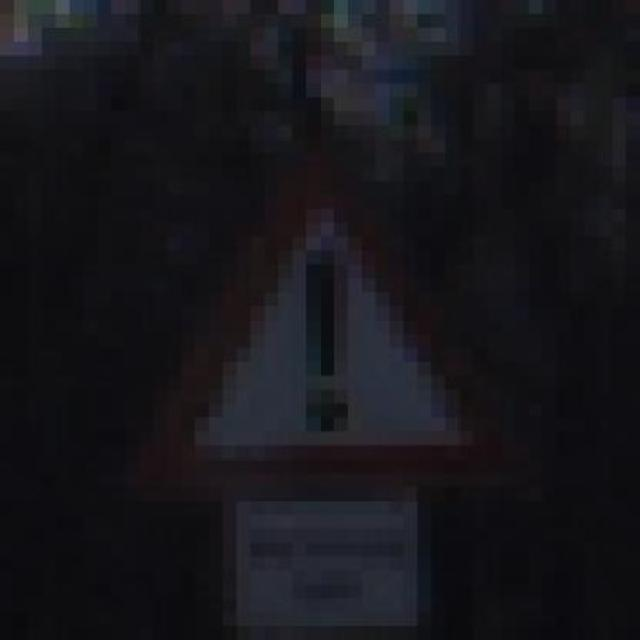Attention Please-: (86, 109, 532, 528)
